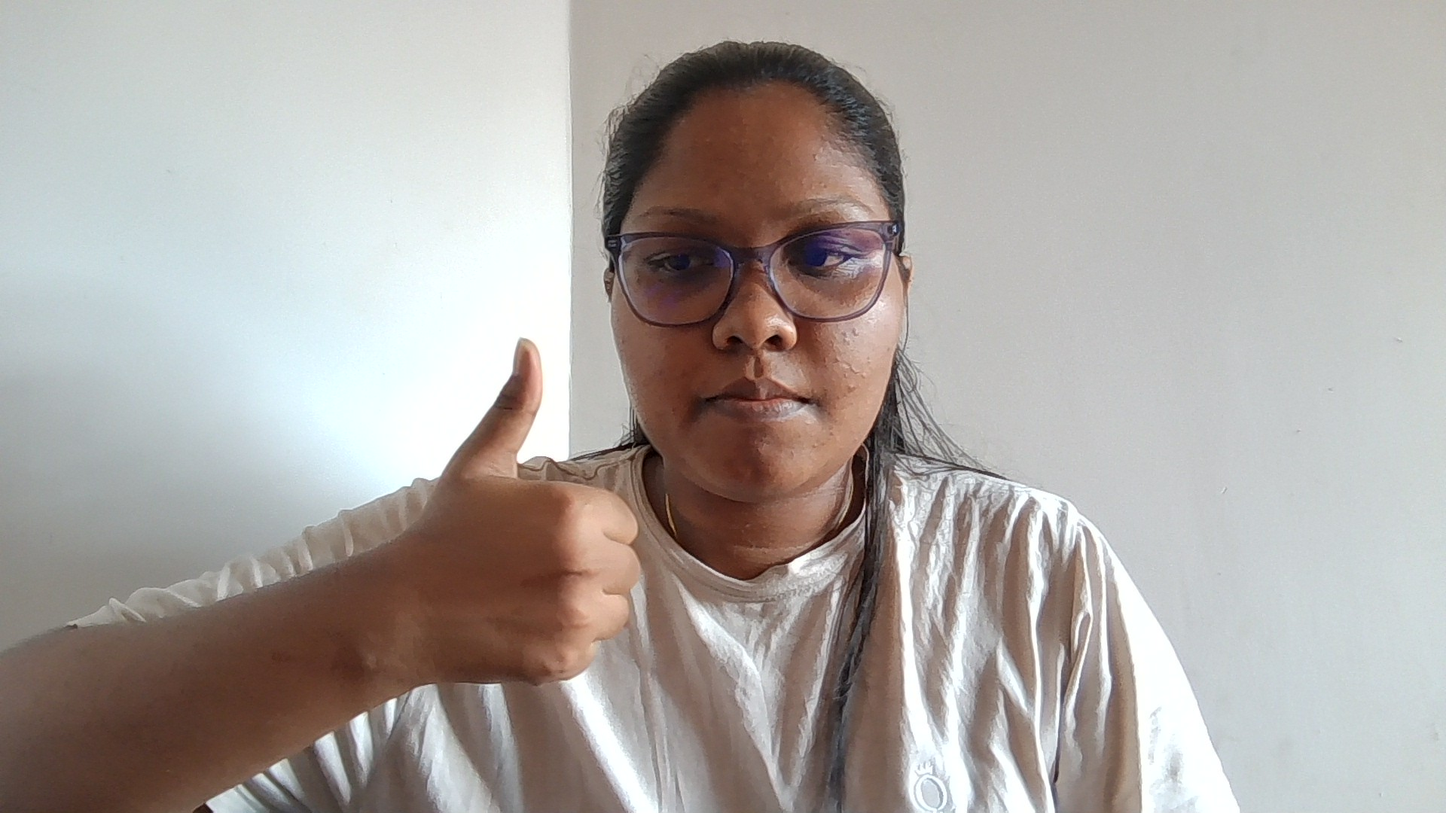Thumbs Up: (331, 284, 664, 732)
